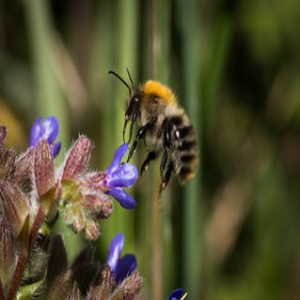bee: (110, 72, 198, 194)
